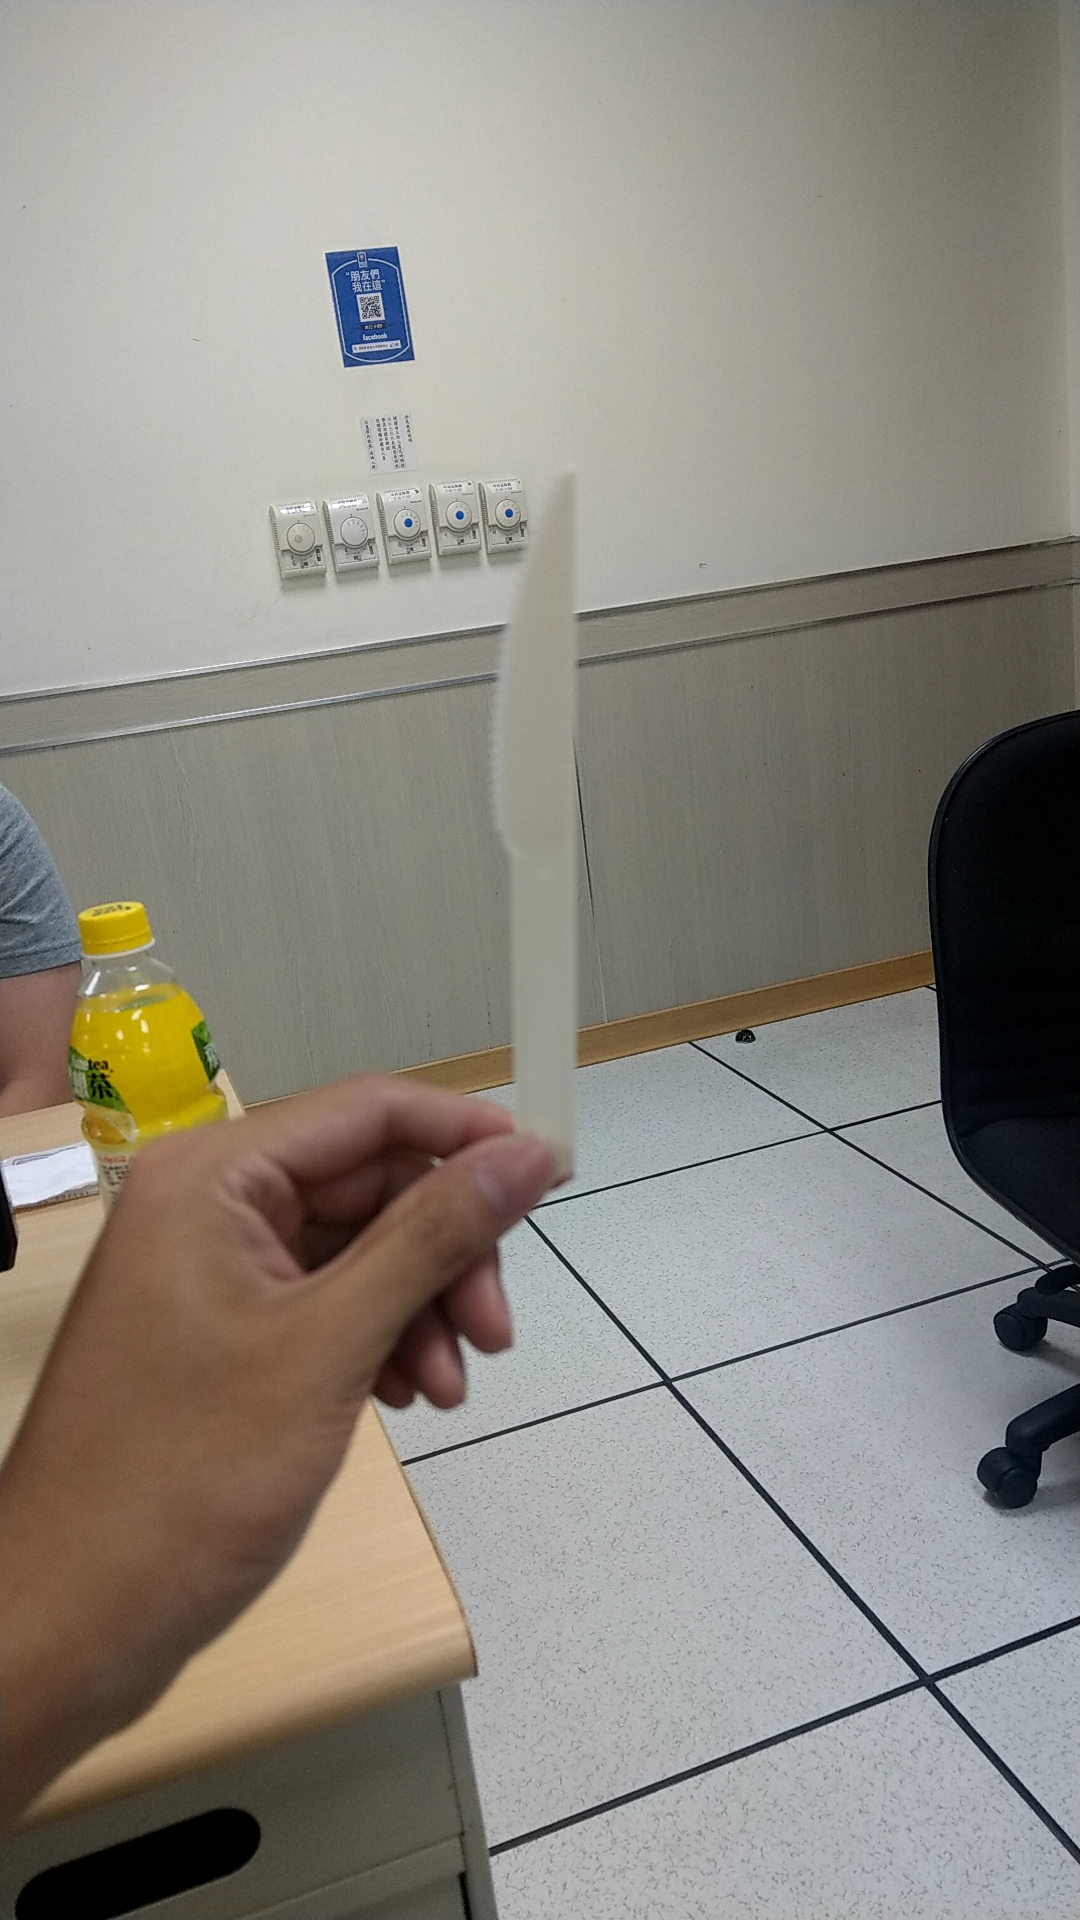knife: (475, 458, 604, 1143)
